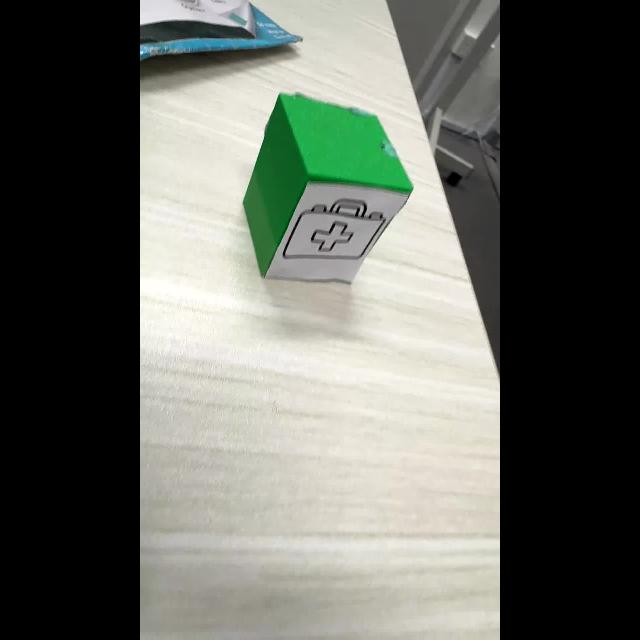Medkit: (283, 199, 386, 262)
